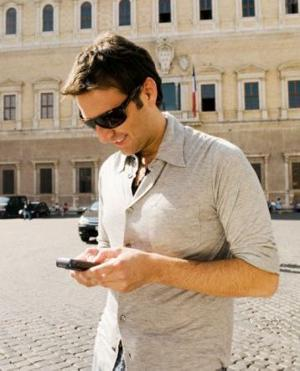person: (62, 33, 281, 370)
